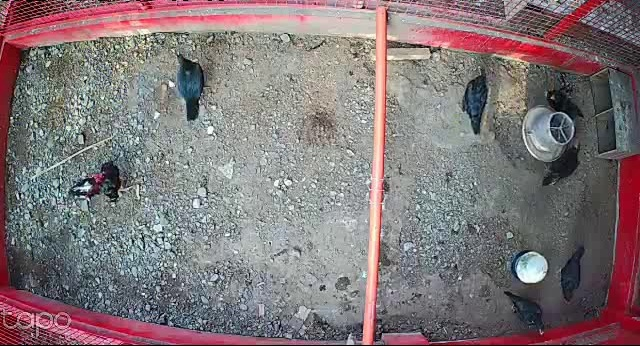Chicken: (171, 50, 208, 124), (457, 63, 490, 135), (538, 139, 583, 189), (503, 289, 547, 336), (556, 242, 586, 306), (545, 87, 587, 122)
Drinker: (509, 250, 550, 285)
Feeder: (521, 104, 576, 162)
Rooster: (68, 160, 144, 201)
